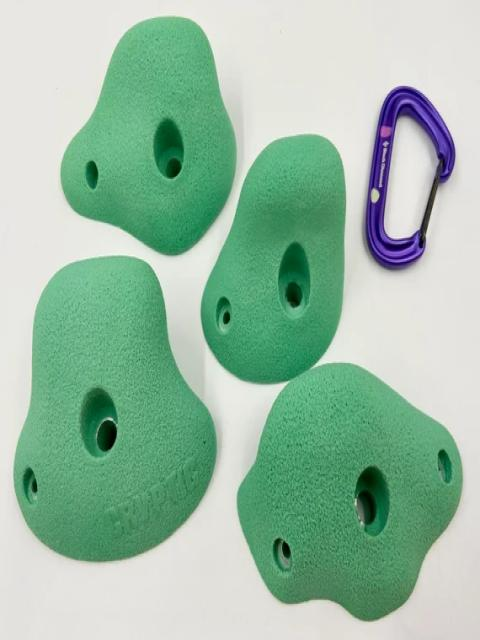jug: (13, 256, 216, 561), (237, 363, 461, 619), (61, 17, 235, 254), (202, 136, 345, 382)
